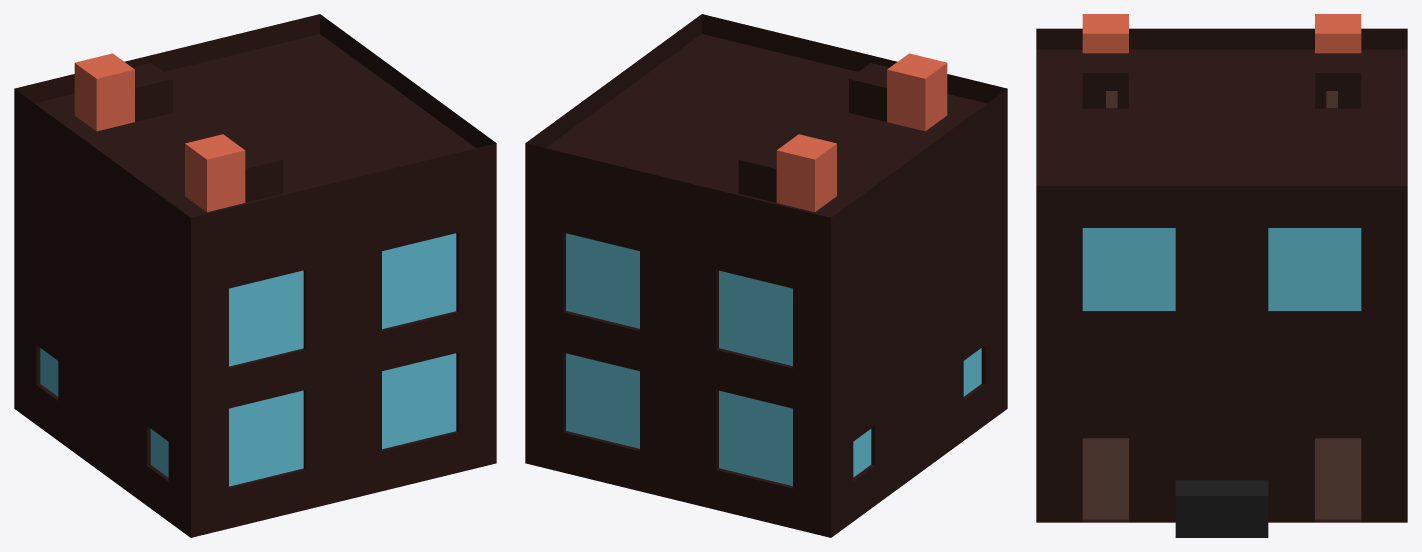
The model's file is Apartment02Brick.fbx.
The picture shows the model from 3 angles, left to right: view 1: azimuth 30°, elevation 25°; view 2: azimuth 150°, elevation 25°; view 3: azimuth 270°, elevation 25°; orthographic projection. The views are drawn at different scales.
Visible parts, largest first — view 1: Cube; view 2: Cube; view 3: Cube.
Part boxes in pixels (bbox=[...]): Cube: bbox=[14, 14, 496, 537]; Cube: bbox=[525, 14, 1007, 537]; Cube: bbox=[1036, 14, 1407, 537].
Bounding box in the file's own units: 87.87 × 88.19 × 80.
